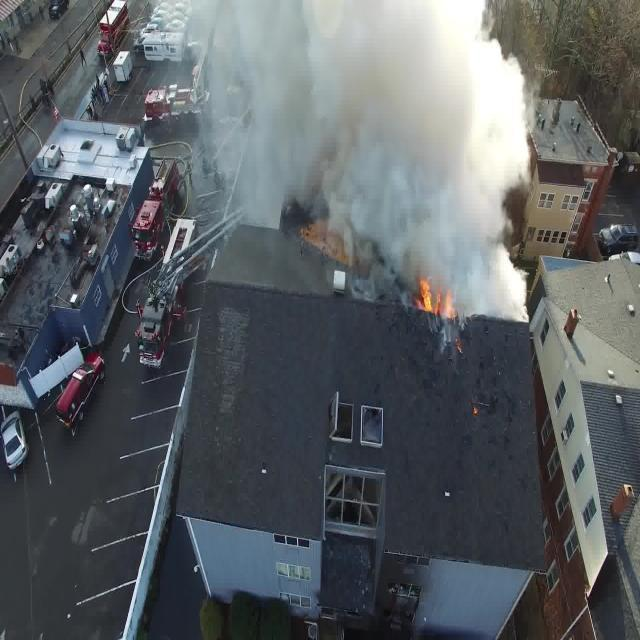Fire: (419, 275, 459, 327)
Smoke: (281, 8, 521, 235)
